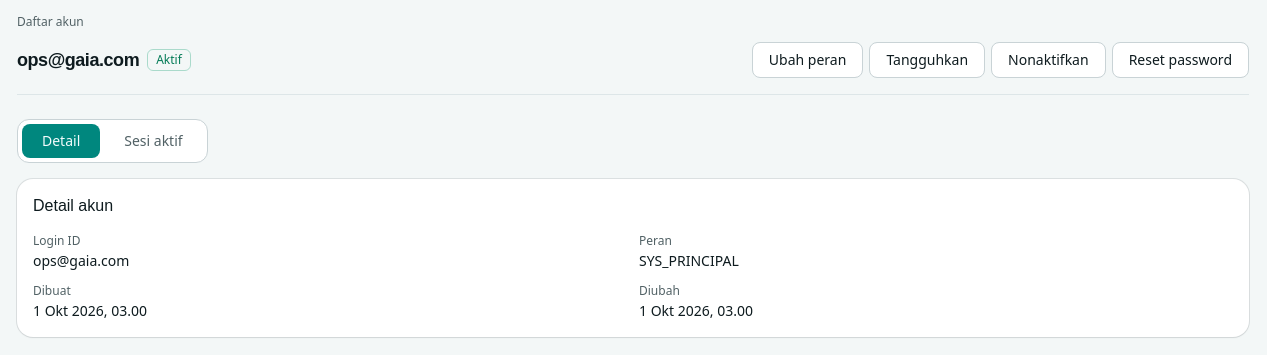
Test case: force logout of another account (D4.10, D13.1) › shows the force logout button for a principal target (no UI gate)
This screenshot has width=1267, height=355.
Expected: the heading "ops@gaia.com" is shown, [17,46,139,74]
What coordinates should you click on to do the following:
click the tab "Sesi aktif"
I would click on:
 (154, 141)
Its box is [104,124,203,158].
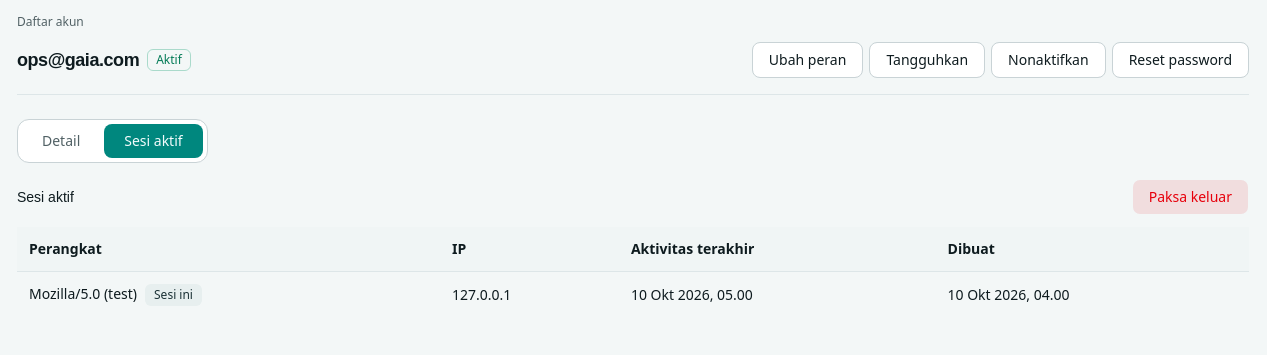
Now the table named "Sesi aktif akun" is shown, box [17,227,1249,318]
Now the button "Paksa keluar" is enabled, box [1132,179,1249,215]
